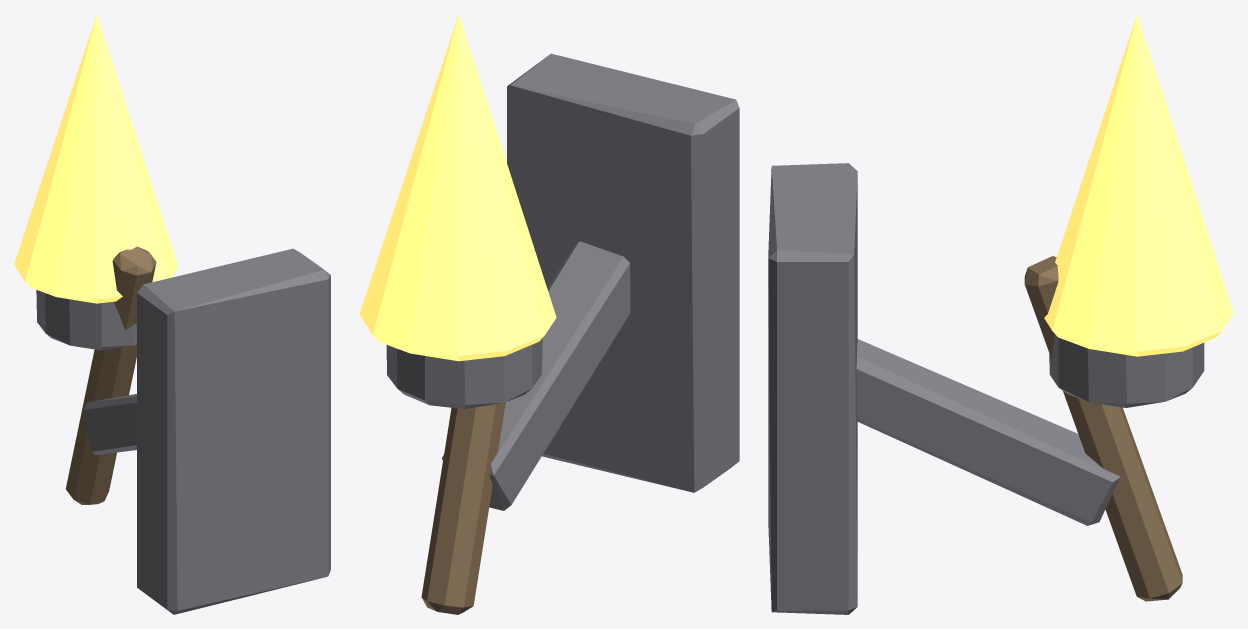
The model's file is dgn_torch_wall.glb.
3 views of the same model, side by side, from view 1: azimuth 30°, elevation 25°; view 2: azimuth 150°, elevation 25°; view 3: azimuth 270°, elevation 25° (orthographic). The views are drawn at different scales.
Visible parts, largest first — view 1: dgn_torch_wall; view 2: dgn_torch_wall; view 3: dgn_torch_wall.
Part boxes in pixels (box(x1,y1,x2,y2)): dgn_torch_wall: box(14, 14, 330, 614); dgn_torch_wall: box(359, 14, 739, 614); dgn_torch_wall: box(768, 14, 1233, 614).
Bounding box in the file's own units: 0.2 × 0.5766 × 0.4163.
